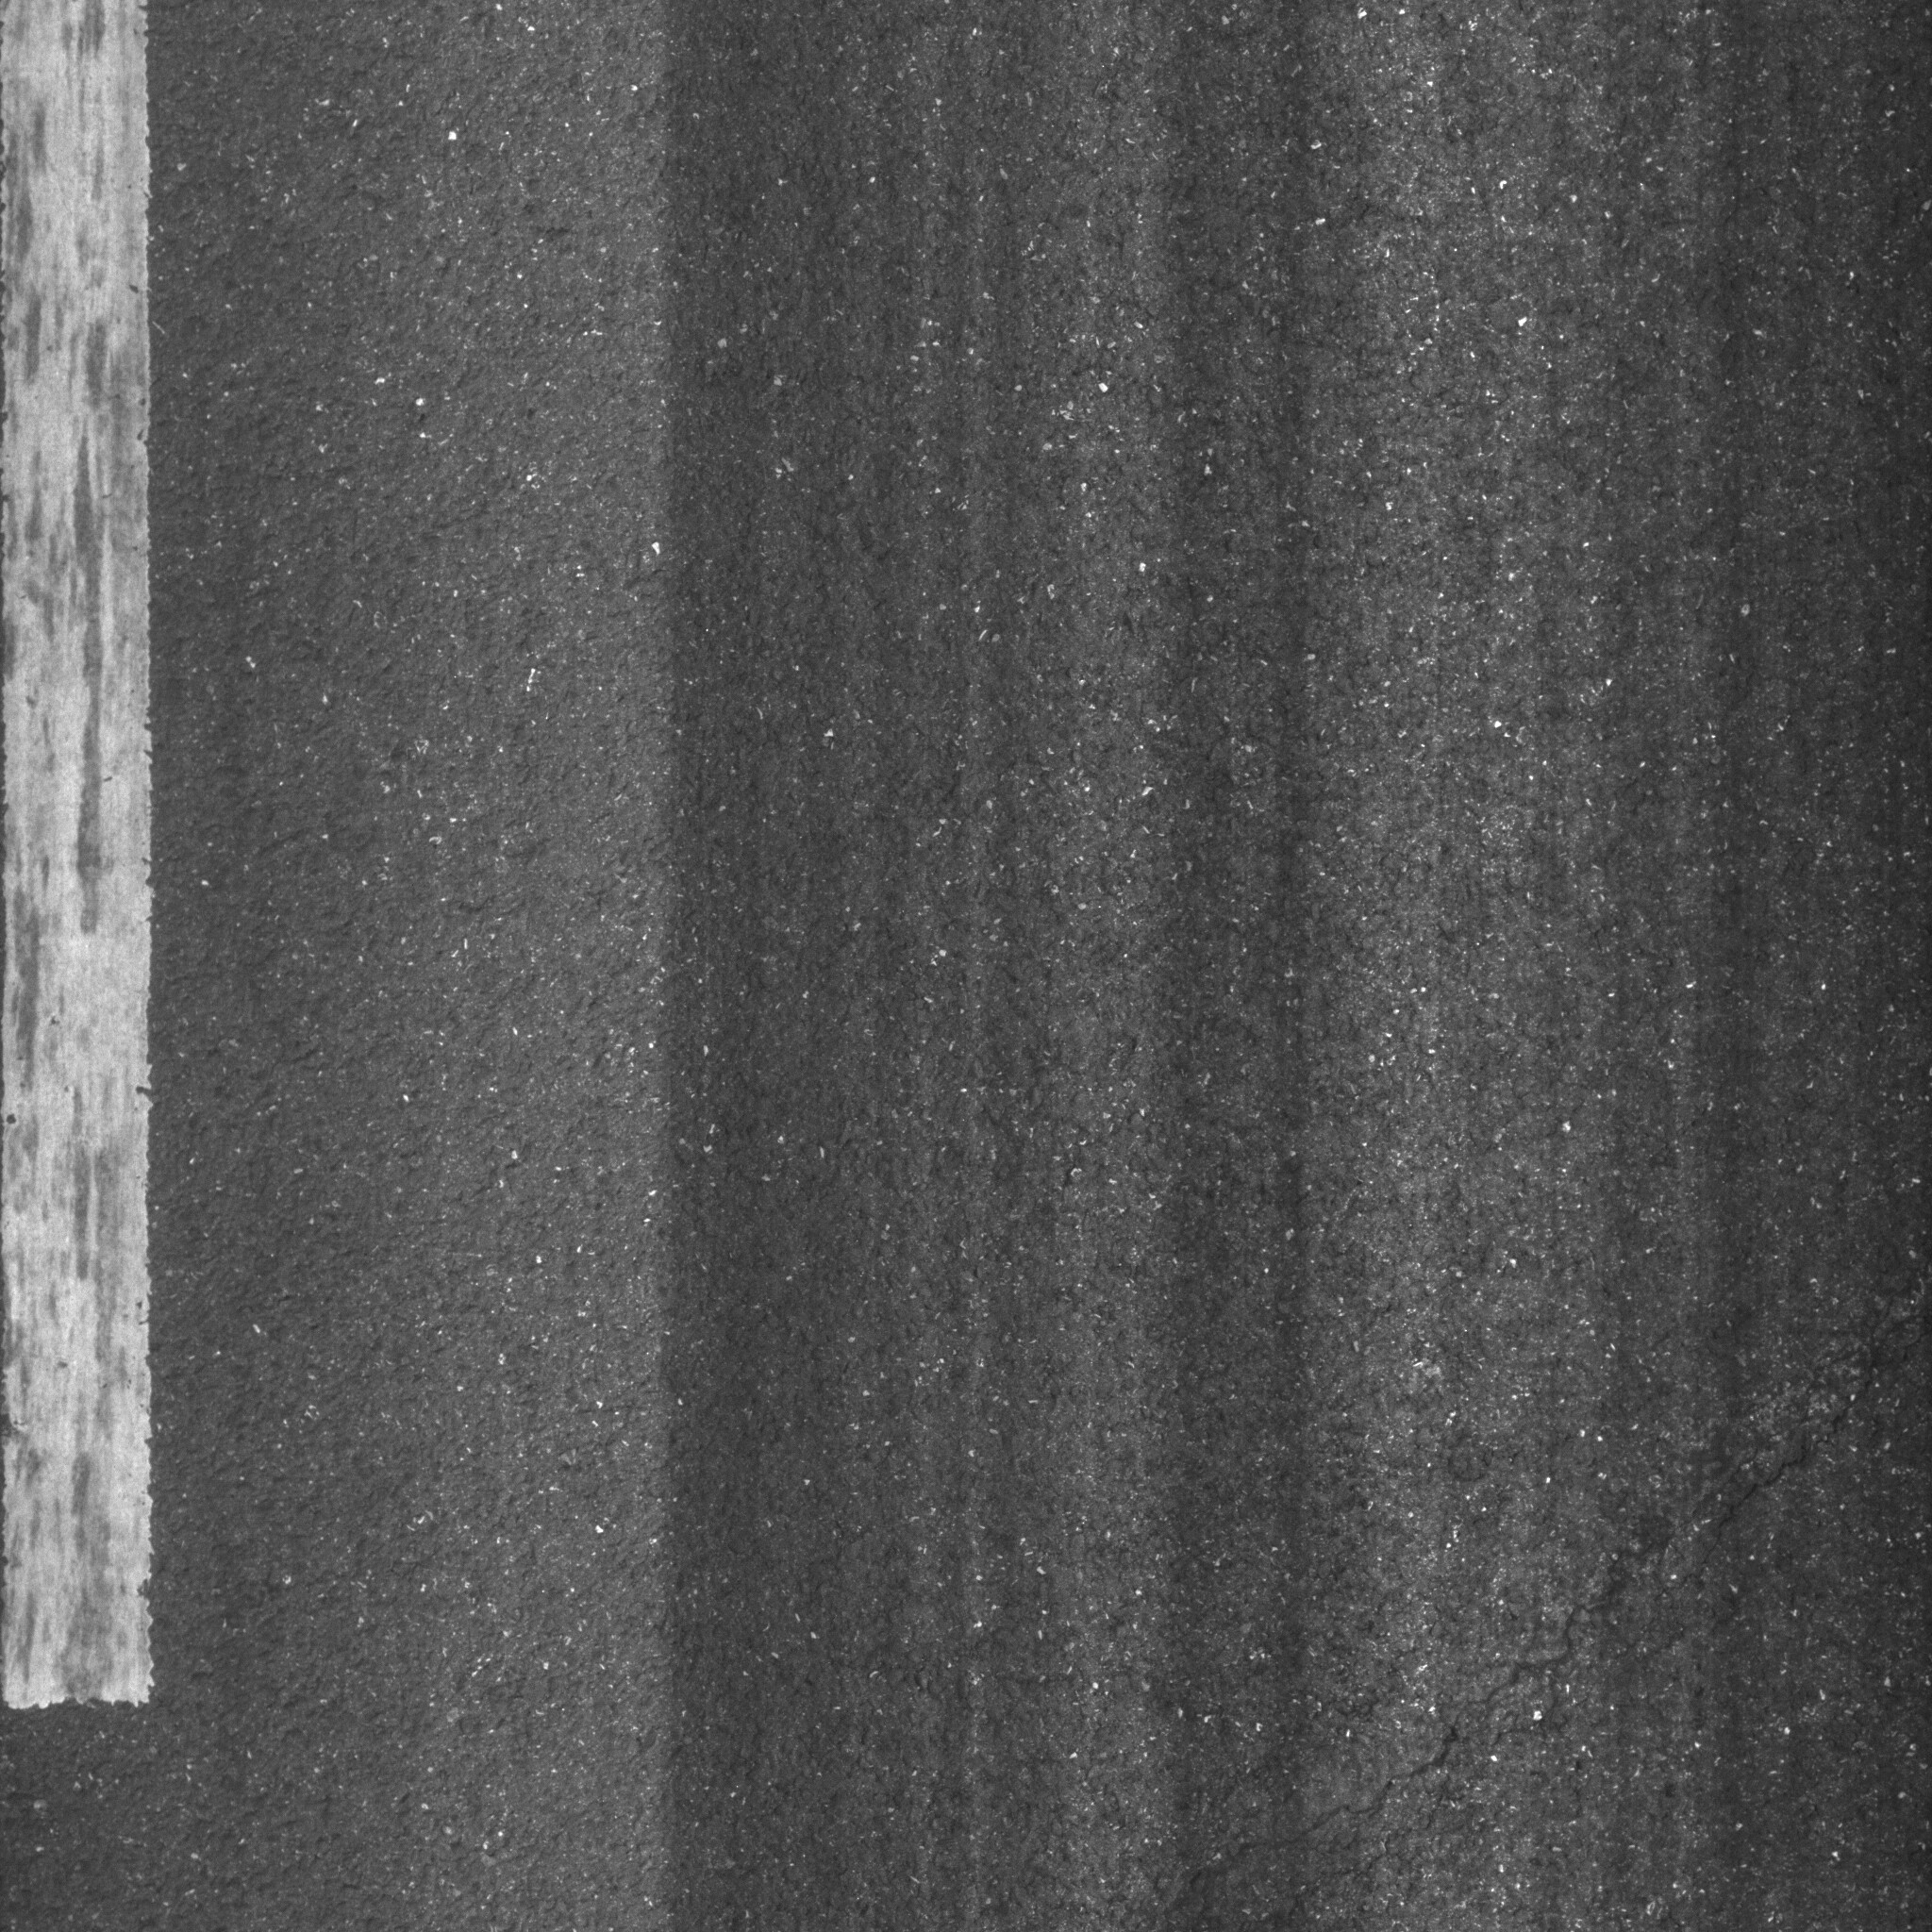transverse: (952, 1380, 1932, 1923)
